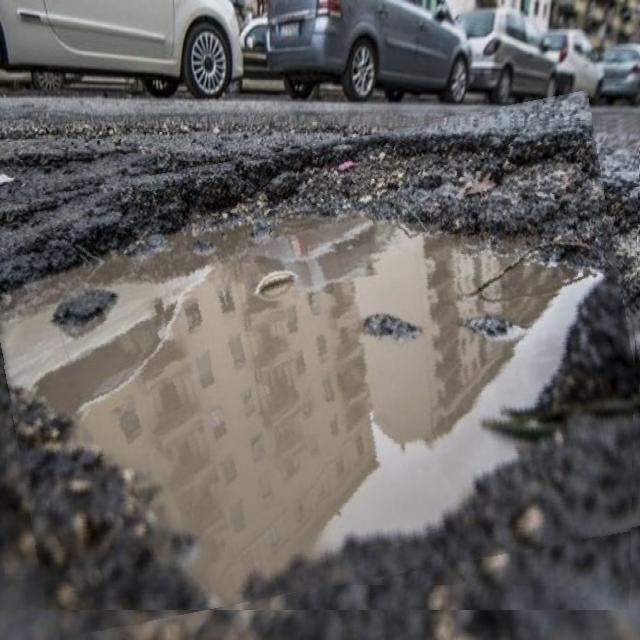Pothole: (0, 117, 640, 610)
